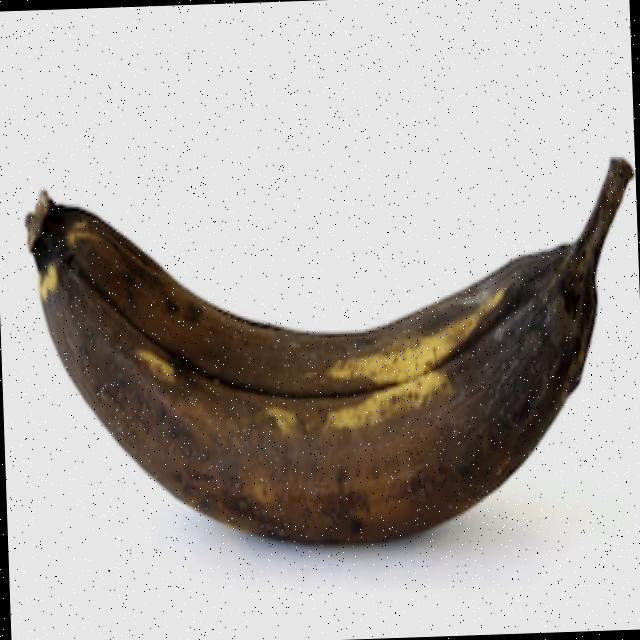Rotten: (7, 93, 640, 593)
